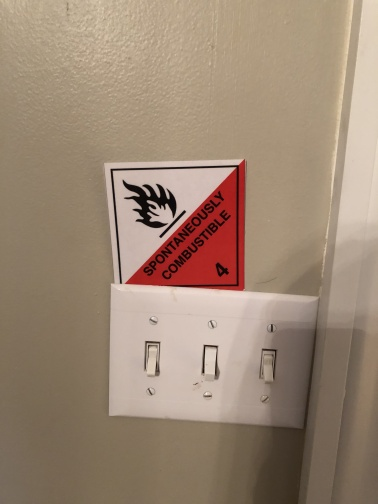SpontaneouslyCombustible: (103, 159, 247, 292)
